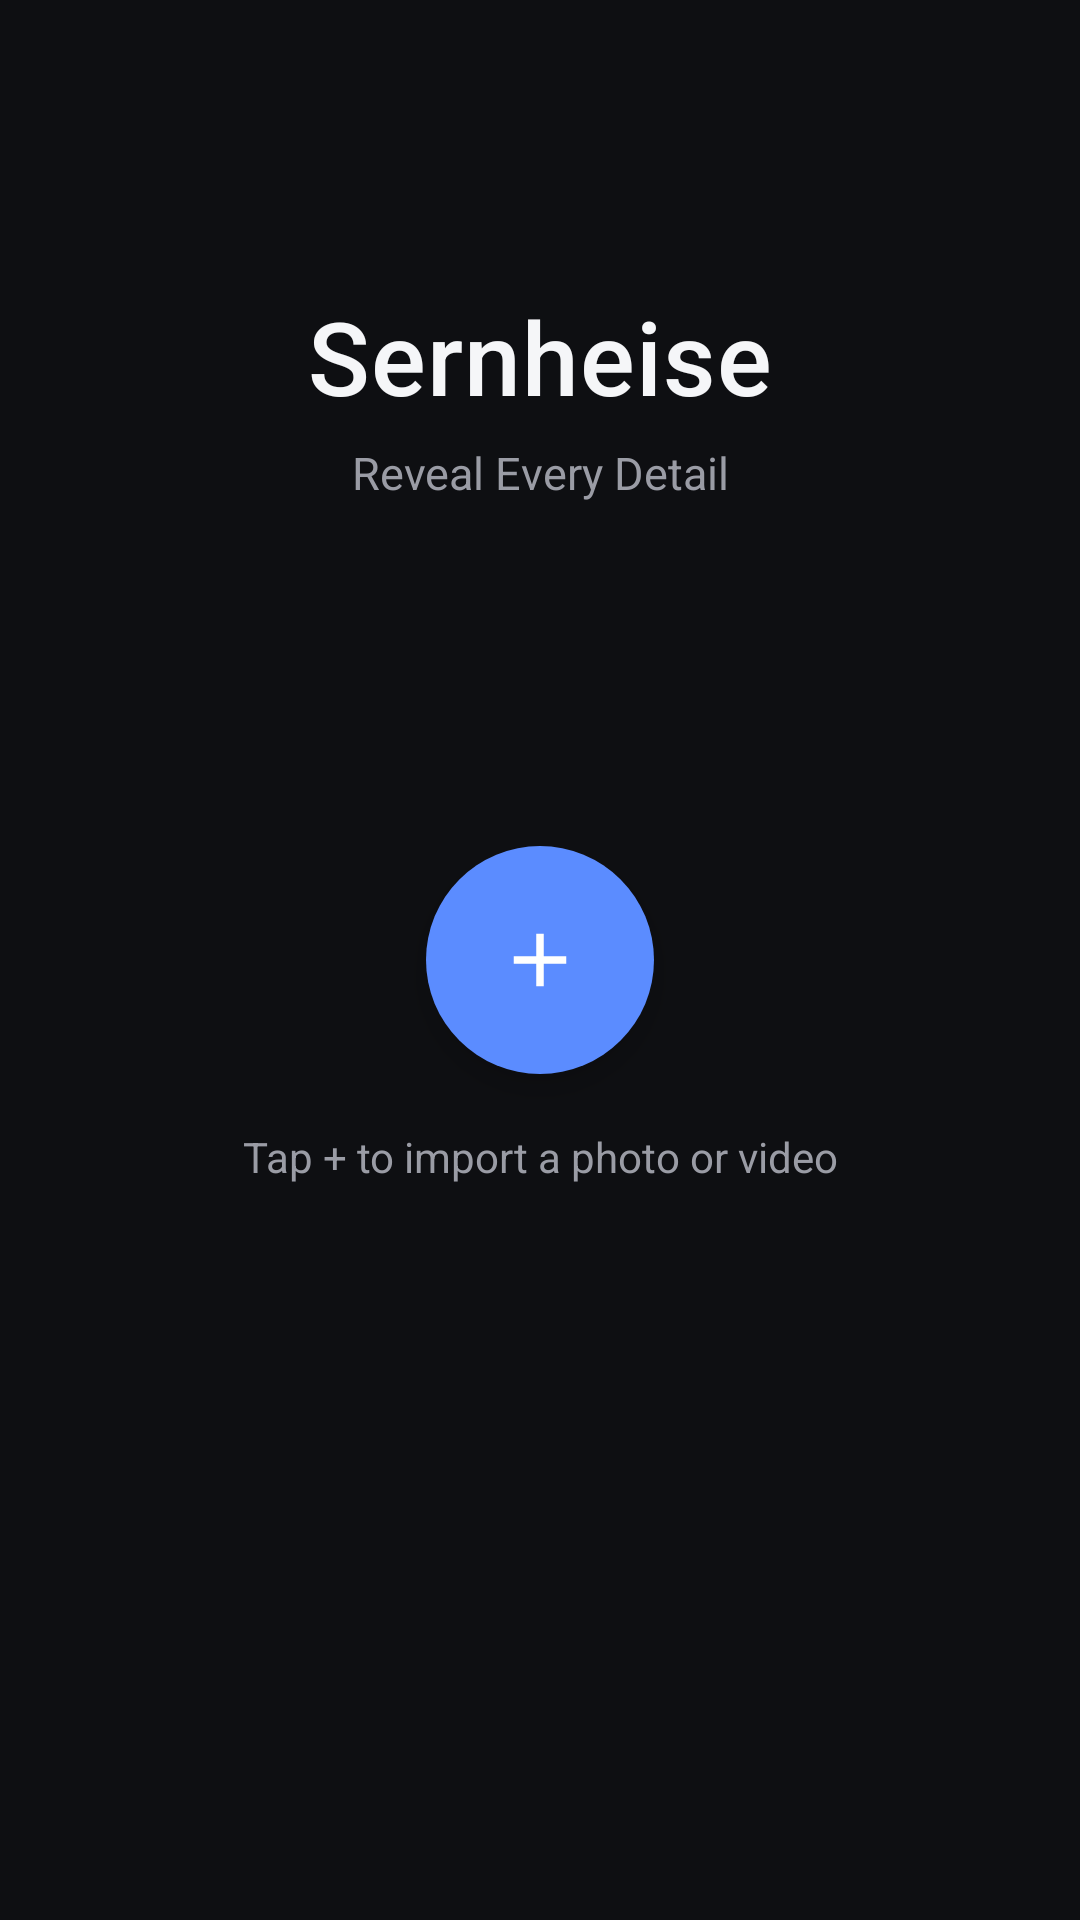

Where icons sit on this 1080px×1920px app screen, as (left=x1, top=y1, right=x2, bottom=y2):
plus: (left=426, top=846, right=654, bottom=1074)
